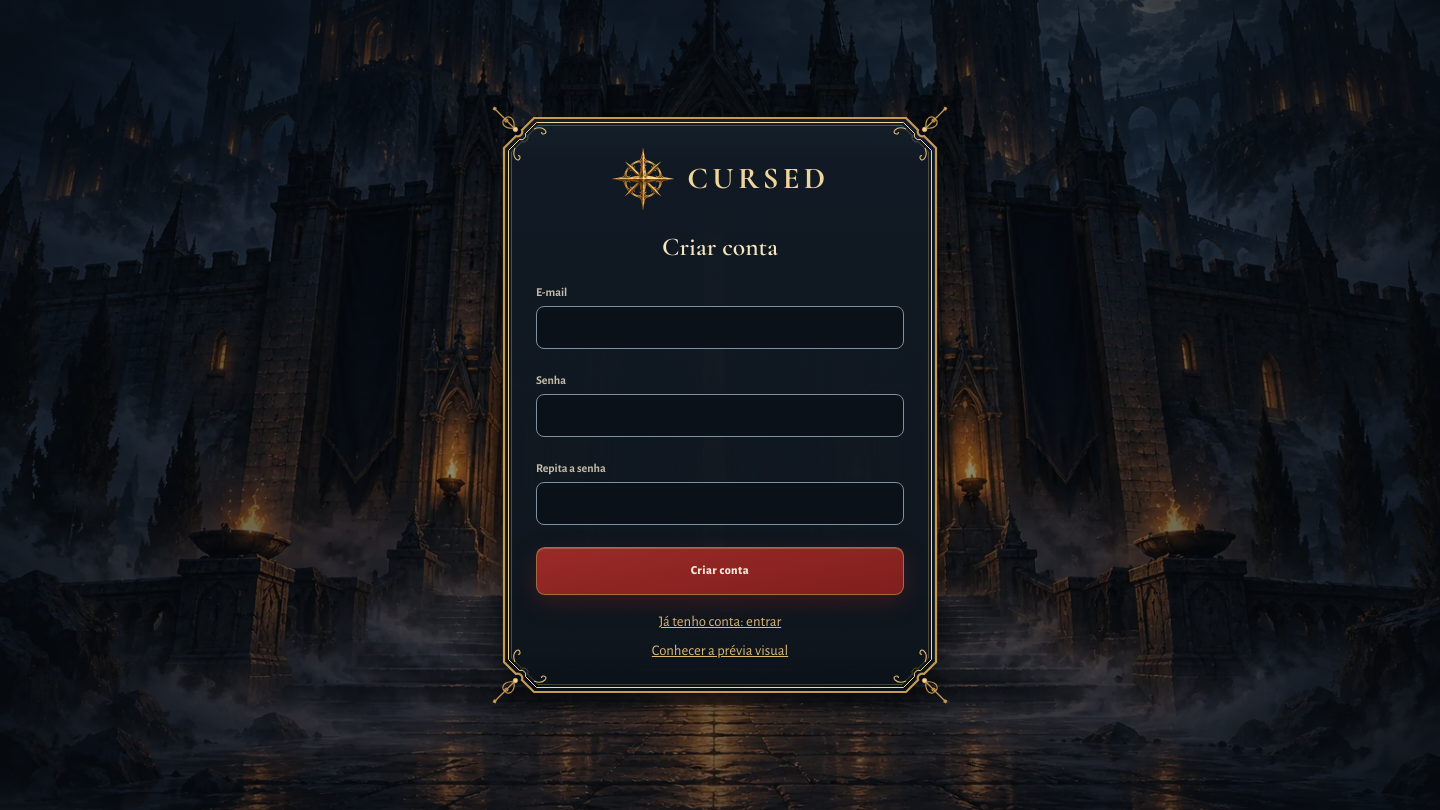
Test: entrada, cadastro e senha (5.1) › cadastro mostra a mesma mensagem para e-mail novo ou já existente e pede confirmação
Type "ana@exemplo.com" into the field labelled "E-mail" at [720, 328], box [536, 306, 904, 349]
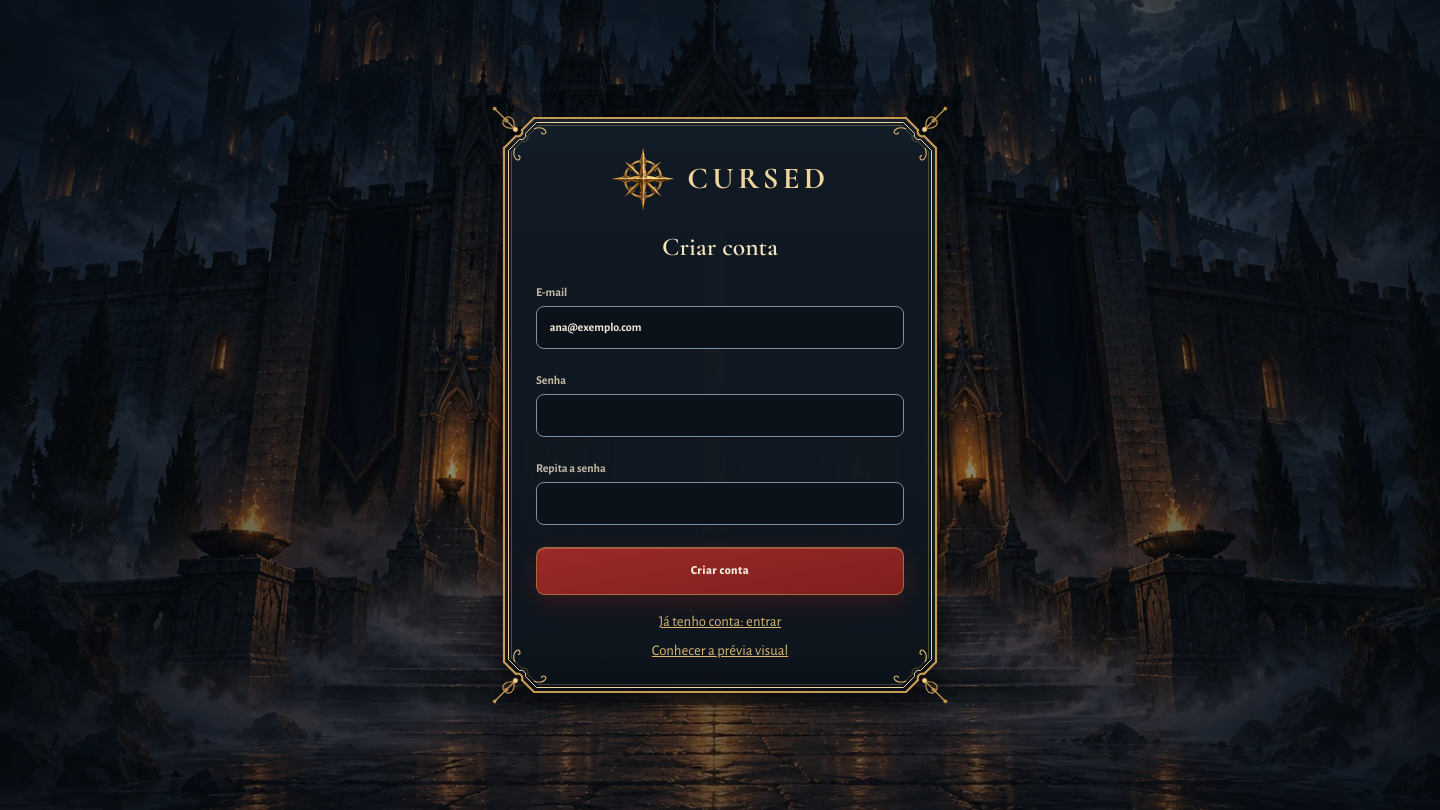
Type "segredo-forte" into the password field labelled "Senha" at [720, 416], box [536, 394, 904, 437]
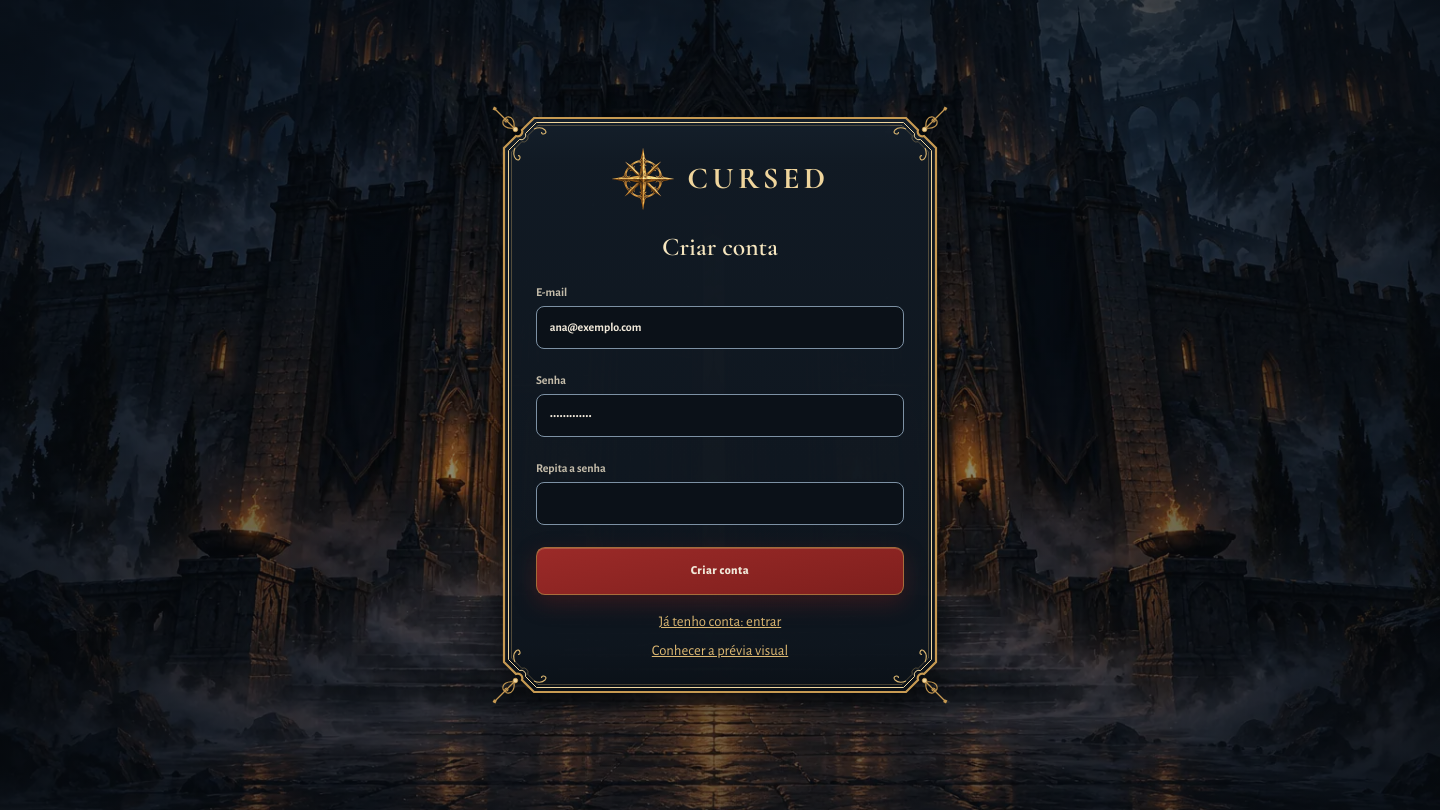
Type "segredo-forte" into the password field labelled "Repita a senha" at [720, 504], box [536, 482, 904, 525]
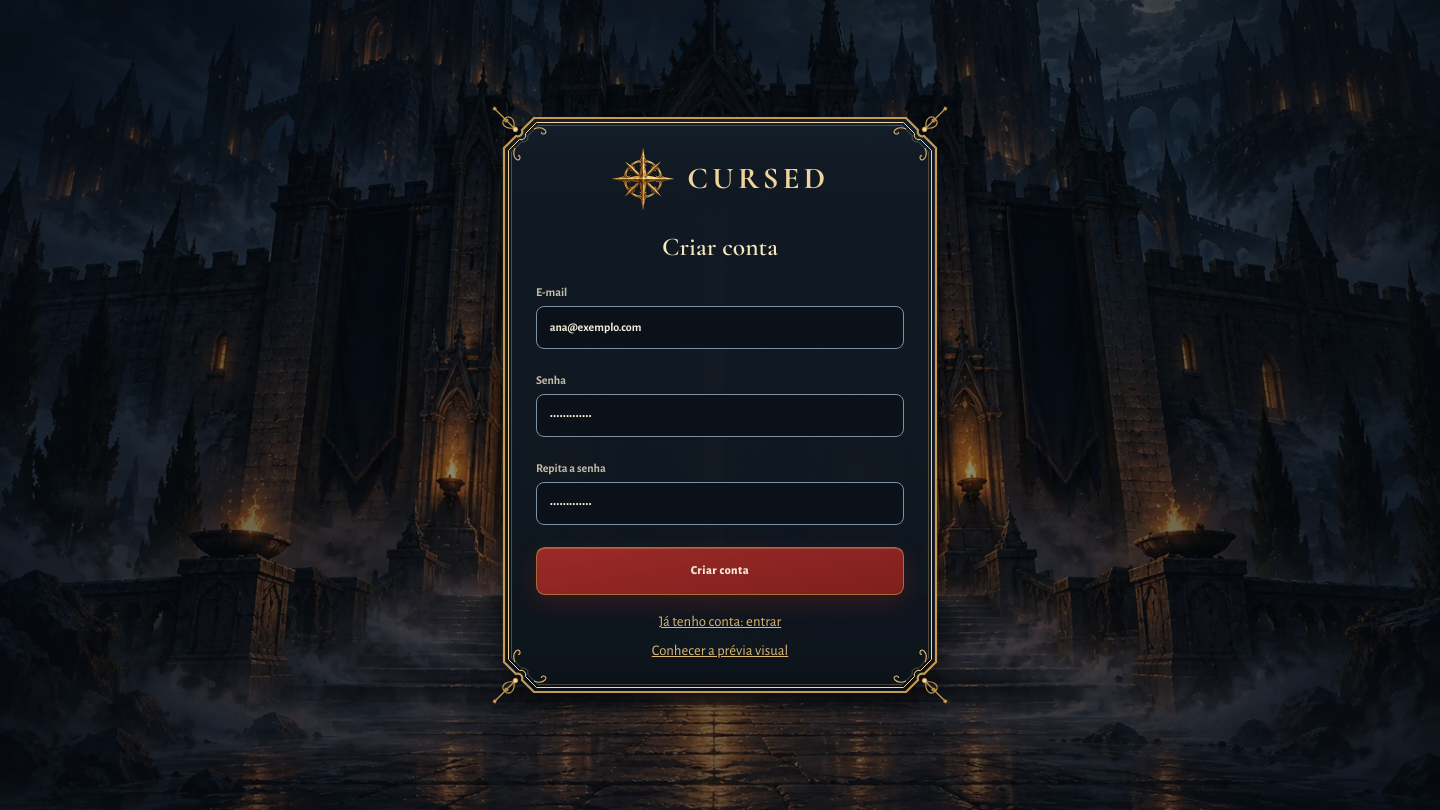
Click the button "Criar conta" at [720, 571], box [536, 547, 904, 595]
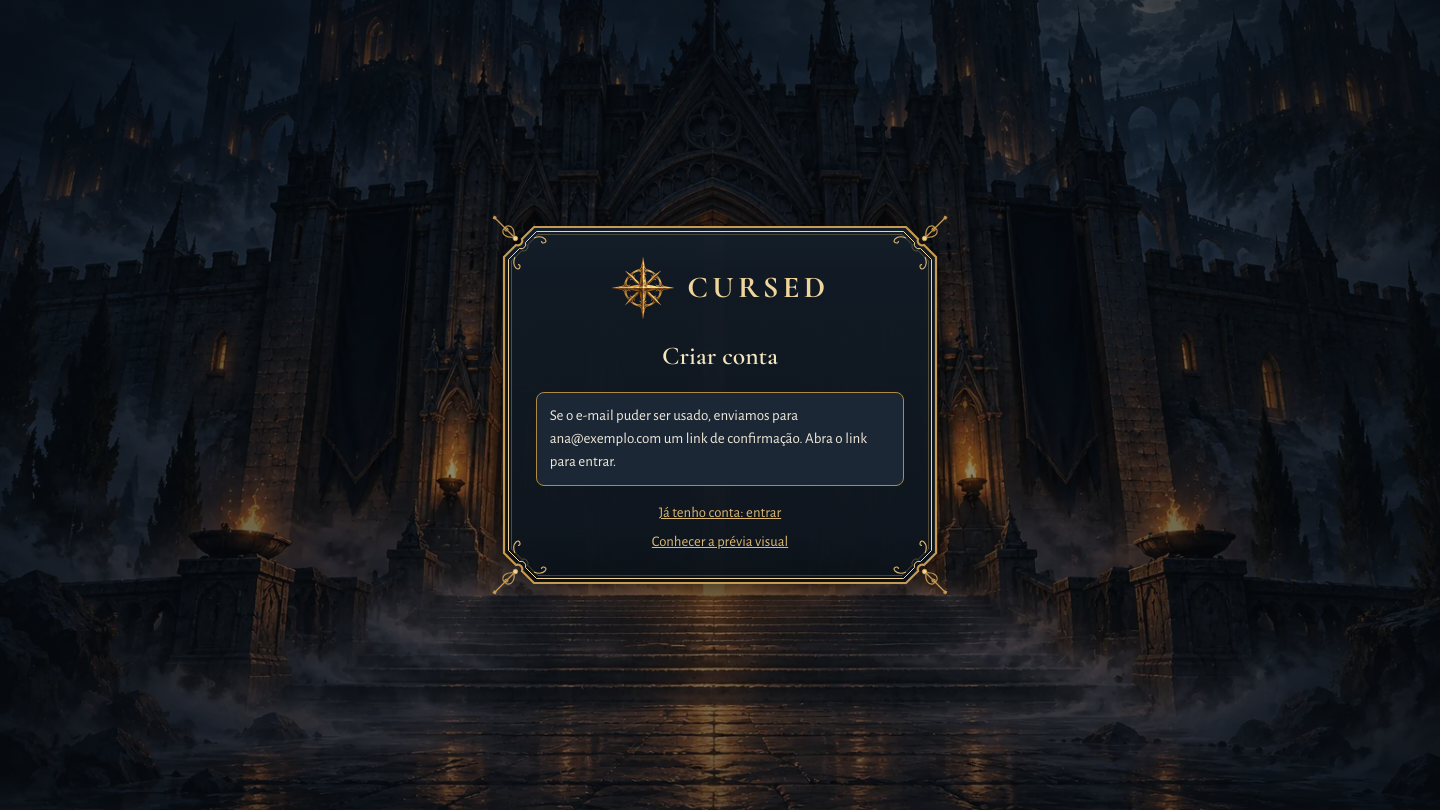
Check: the message shows "Se o e-mail puder ser usado, enviamos para ana@exemplo.com um link de confirmação", box [550, 408, 867, 469]
